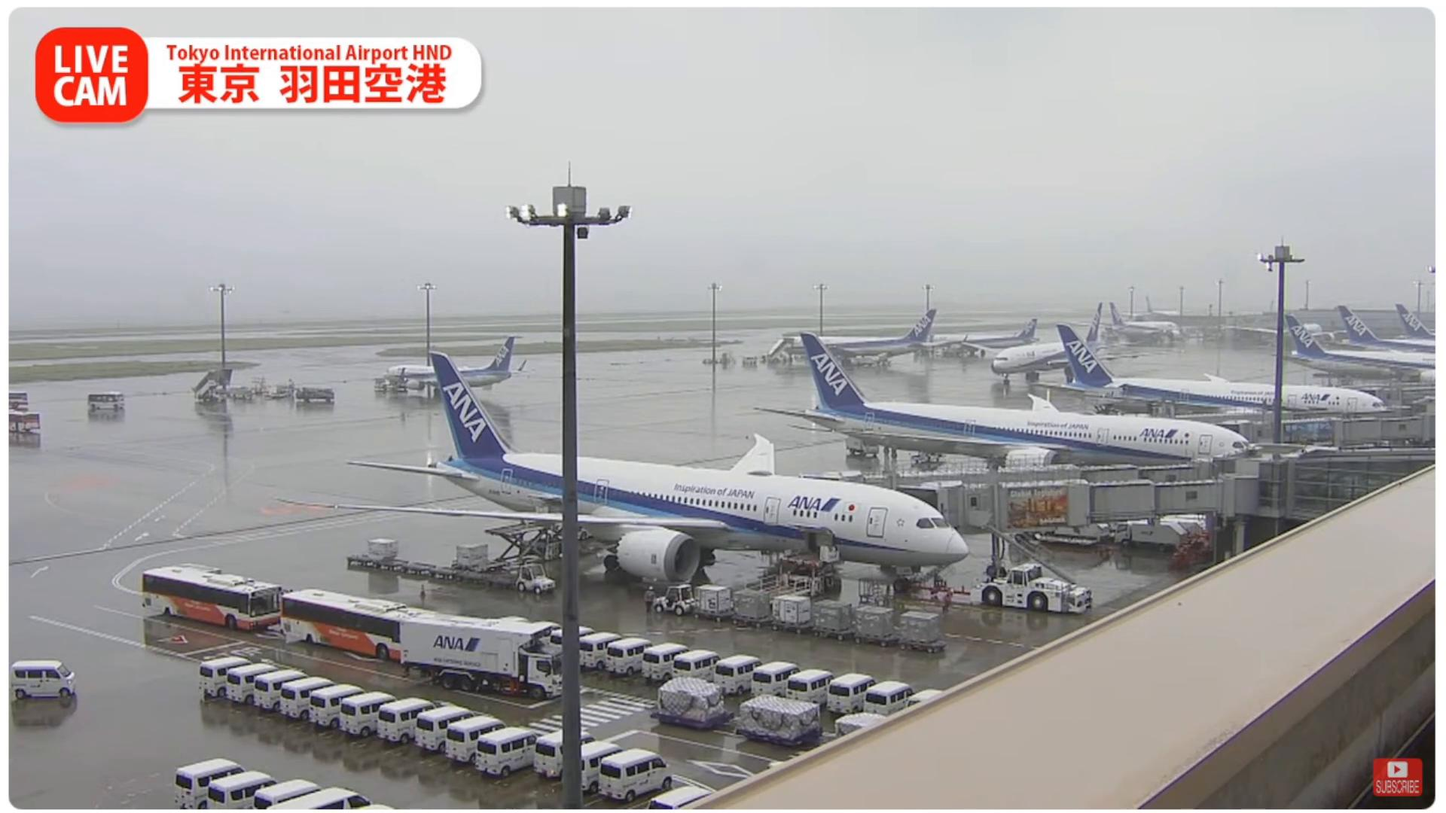APS: (968, 562, 1094, 614)
Aerobridge: (892, 474, 1261, 535), (796, 455, 1210, 487)
Airplane: (270, 351, 970, 592)
Catering: (399, 612, 565, 698)
Dolly: (693, 601, 947, 653), (346, 551, 516, 588)
JCPL: (451, 522, 563, 573), (744, 552, 838, 601)
Tractor: (653, 583, 701, 615), (515, 563, 556, 594)
Window: (1292, 458, 1433, 516)
